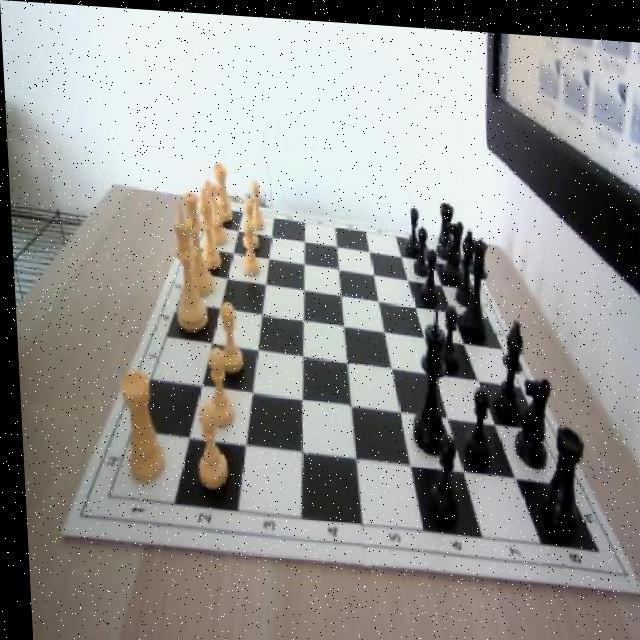bishop: (487, 311, 523, 411), (451, 220, 476, 298)
black-bishop: (403, 311, 446, 448)
black-king: (506, 369, 551, 463), (437, 211, 465, 277)
black-knight: (423, 429, 456, 518), (458, 377, 487, 464), (431, 296, 457, 367), (417, 245, 436, 301), (401, 202, 420, 255), (410, 221, 428, 270)
black-pawn: (454, 231, 490, 333)
black-queen: (534, 418, 582, 534), (432, 196, 453, 254)
black-rook: (195, 185, 220, 265)
white-bishop: (168, 196, 204, 327)
white-king: (199, 175, 226, 246)
white-knight: (188, 400, 225, 491), (203, 345, 236, 429), (212, 297, 241, 370), (238, 217, 259, 274), (240, 194, 256, 247), (247, 176, 262, 226)
white-pawn: (181, 191, 213, 297)
white-queen: (115, 368, 160, 483), (211, 160, 232, 221)
